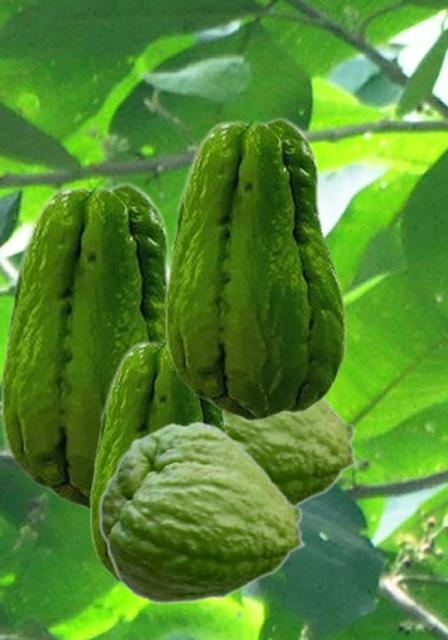sayote: (0, 181, 172, 511), (164, 116, 346, 421), (98, 420, 306, 604), (89, 338, 230, 587), (226, 397, 359, 507)
